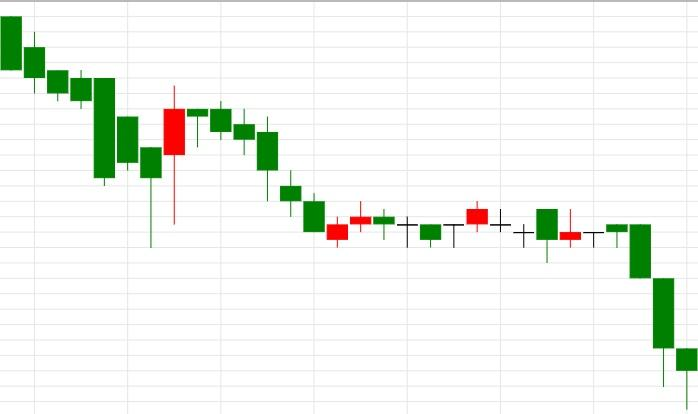hammer_rise: (1, 16, 162, 248), (606, 224, 697, 410)
